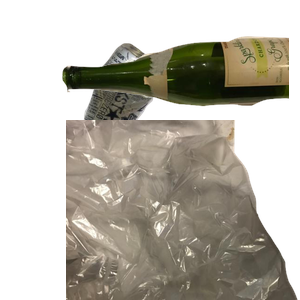glass: (60, 34, 300, 133)
metal: (81, 41, 234, 178)
plastic: (86, 163, 282, 300)
trash: (66, 120, 300, 300)
